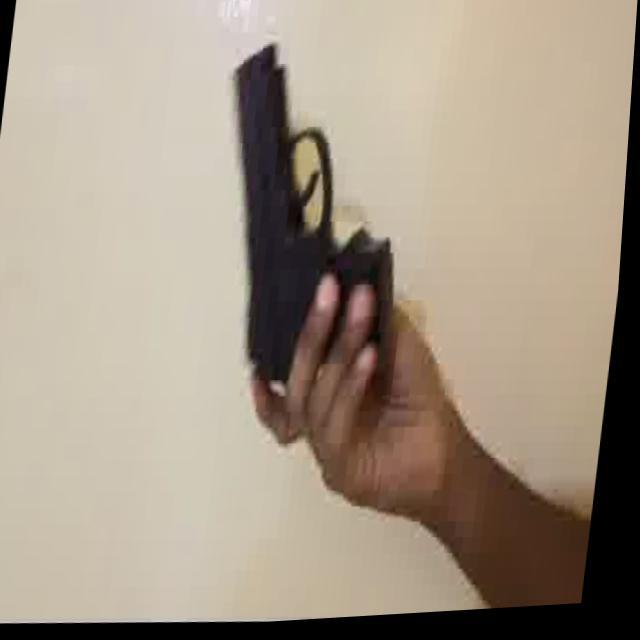weapon: (198, 34, 428, 422)
